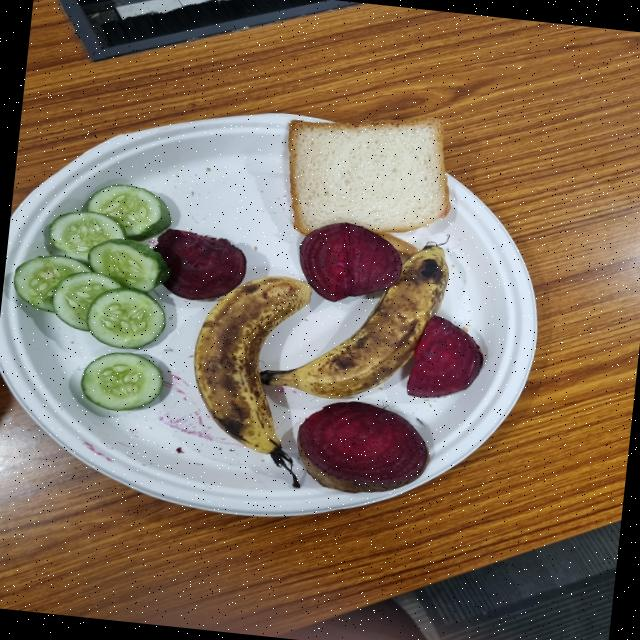banana: (120, 201, 328, 330), (34, 129, 277, 225)
cucumber: (83, 42, 170, 114), (311, 55, 390, 123), (169, 53, 252, 112), (188, 26, 272, 84), (214, 0, 294, 59), (282, 29, 351, 88), (246, 54, 314, 113)
